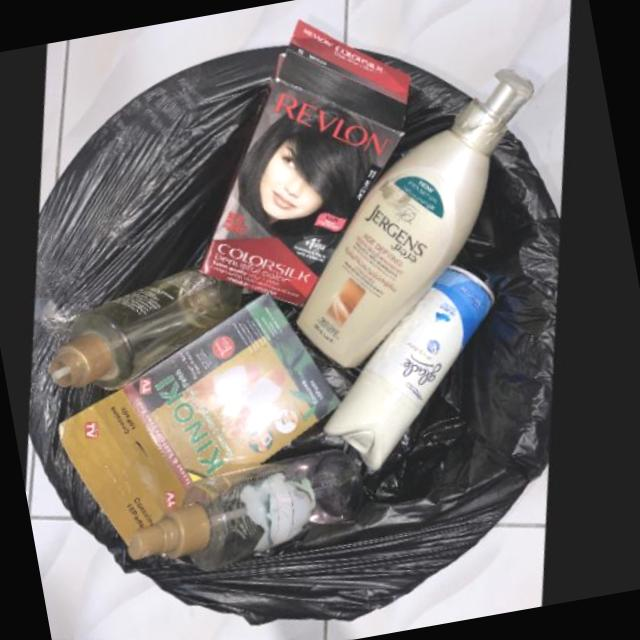carton: (63, 295, 346, 548), (205, 22, 412, 309)
chai_nhua: (305, 65, 540, 367), (135, 450, 371, 573), (53, 273, 248, 393)
nhom: (329, 266, 500, 475)
